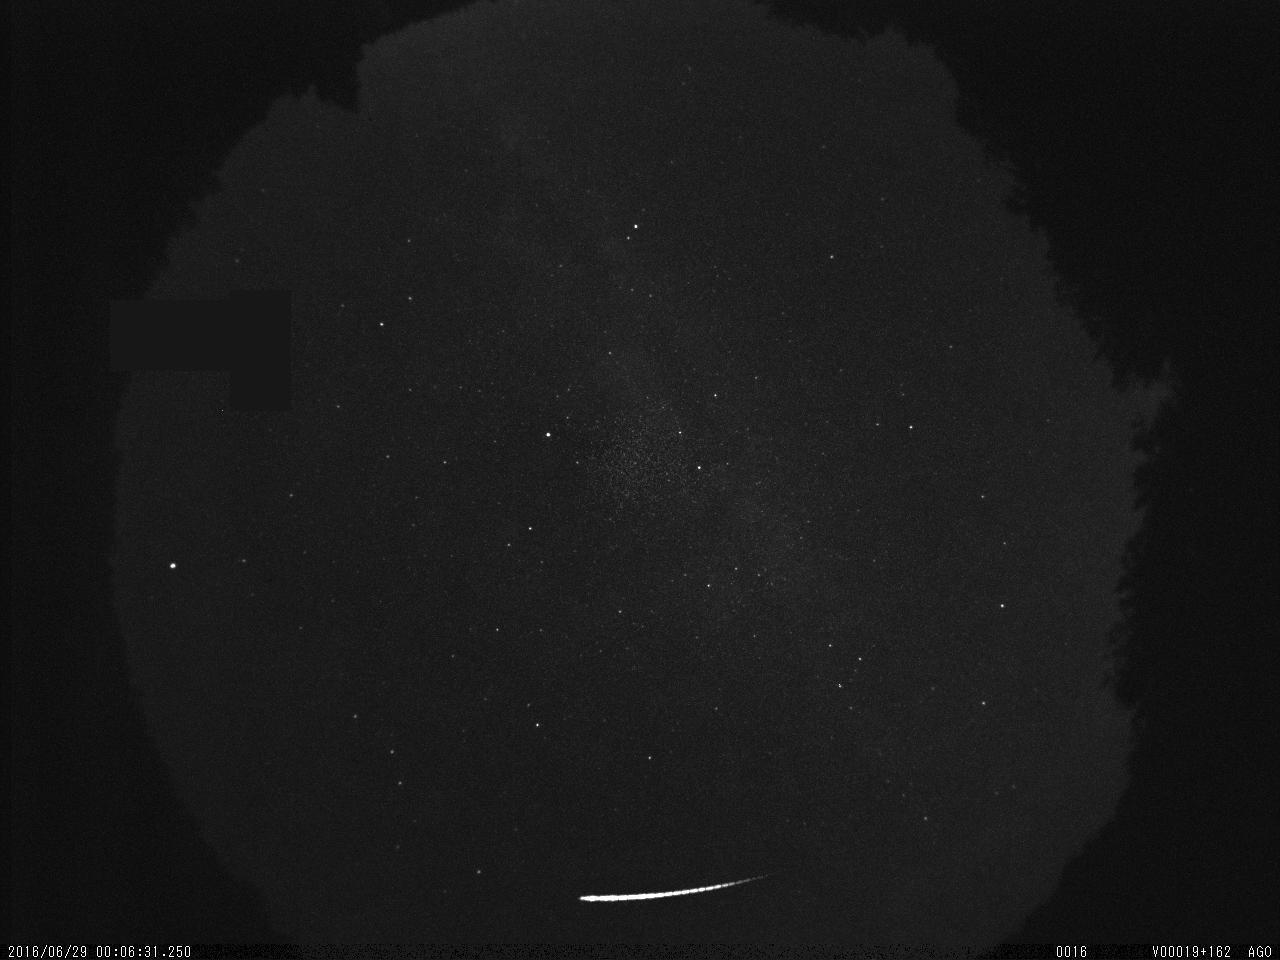Meteor: (574, 869, 777, 919)
